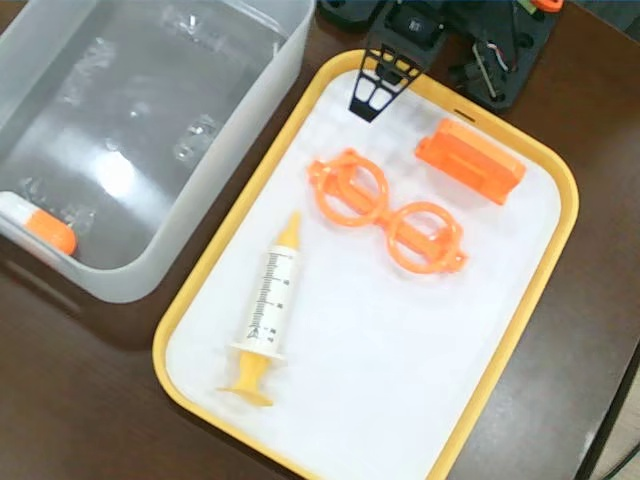pill: (1, 188, 79, 263)
syringe: (216, 207, 303, 411)
